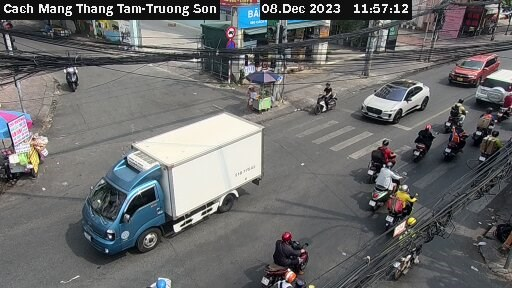car: (359, 69, 428, 127), (464, 58, 512, 103), (444, 47, 490, 79)
motorbike: (255, 232, 318, 282), (357, 143, 402, 177), (378, 190, 416, 228), (312, 74, 346, 113), (407, 125, 437, 168), (375, 168, 407, 207), (443, 123, 470, 165), (472, 129, 503, 163), (443, 98, 475, 126), (54, 61, 85, 85), (475, 110, 491, 133)
truck: (81, 110, 269, 259)
